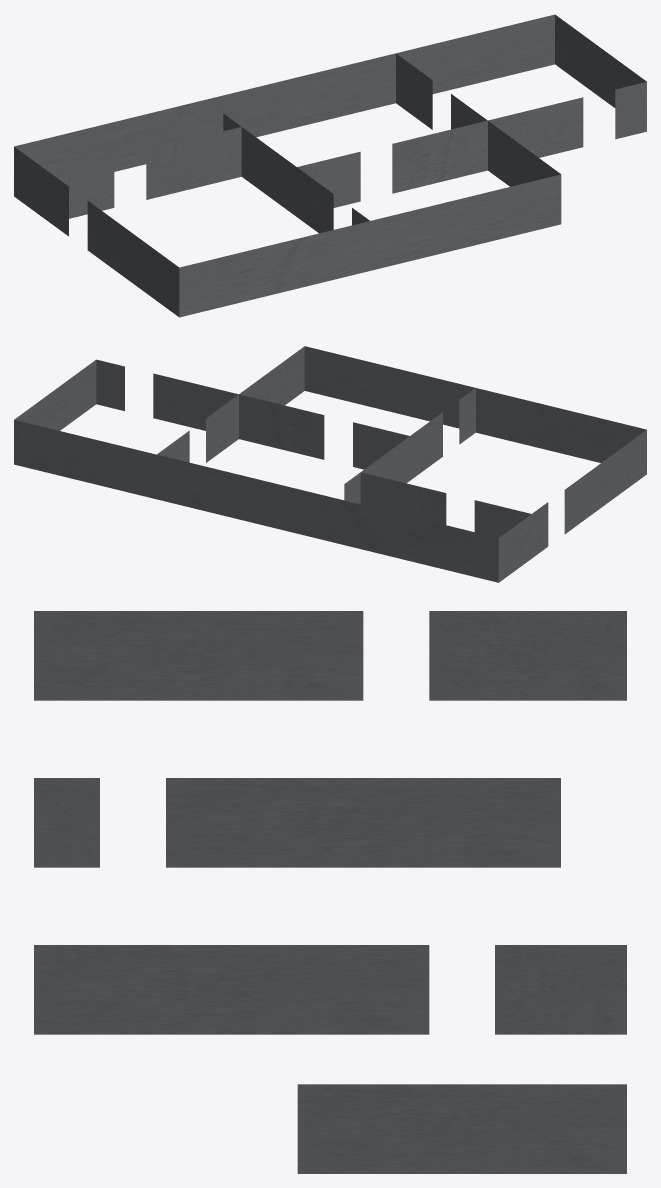
Rendered from Stage.obj.
3 renders of one model, top to bottom at view 1: azimuth 30°, elevation 25°; view 2: azimuth 150°, elevation 25°; view 3: azimuth 270°, elevation 25°, orthographic. The views are drawn at different scales.
Parts seen in each view (by area): view 1: 立方体.005, 立方体.007, 立方体.001, 立方体.019, 立方体.009, 立方体.017, 立方体.004, 立方体.002, 立方体.018, 立方体.020, 立方体.006, 立方体.003 (+1 smaller); view 2: 立方体.005, 立方体.007, 立方体.001, 立方体.017, 立方体.002, 立方体.009, 立方体.019, 立方体.004, 立方体.018, 立方体.006, 立方体.020, 立方体 (+2 smaller); view 3: 立方体.002, 立方体.009, 立方体.004, 立方体.017, 立方体.018, 立方体.003, 立方体.008.
Part boxes in pixels (bbox=[...]): 立方体.005: bbox=[14, 14, 554, 173]; 立方体.007: bbox=[179, 174, 561, 317]; 立方体.001: bbox=[392, 97, 583, 193]; 立方体.019: bbox=[146, 127, 241, 199]; 立方体.009: bbox=[223, 113, 333, 233]; 立方体.017: bbox=[87, 201, 179, 316]; 立方体.004: bbox=[555, 14, 646, 107]; 立方体.002: bbox=[451, 94, 560, 186]; 立方体.018: bbox=[14, 147, 68, 236]; 立方体.020: bbox=[51, 158, 114, 218]; 立方体.006: bbox=[297, 151, 360, 207]; 立方体.003: bbox=[396, 53, 432, 129]; 立方体.005: bbox=[14, 420, 498, 582]; 立方体.007: bbox=[304, 346, 646, 462]; 立方体.001: bbox=[153, 373, 324, 459]; 立方体.017: bbox=[564, 430, 646, 534]; 立方体.002: bbox=[206, 346, 304, 462]; 立方体.009: bbox=[344, 412, 442, 504]; 立方体.019: bbox=[360, 472, 446, 524]; 立方体.004: bbox=[14, 360, 96, 430]; 立方体.018: bbox=[498, 502, 548, 582]; 立方体.006: bbox=[353, 422, 409, 469]; 立方体.020: bbox=[474, 500, 531, 537]; 立方体: bbox=[96, 359, 124, 411]; 立方体.002: bbox=[34, 945, 429, 1034]; 立方体.009: bbox=[166, 778, 560, 867]; 立方体.004: bbox=[297, 1084, 626, 1173]; 立方体.017: bbox=[34, 611, 363, 700]; 立方体.018: bbox=[429, 611, 626, 700]; 立方体.003: bbox=[495, 945, 626, 1034]; 立方体.008: bbox=[34, 778, 99, 867].
Size of the model in its own units: 68 by 6 by 36.
14 materials, 14 textured.
